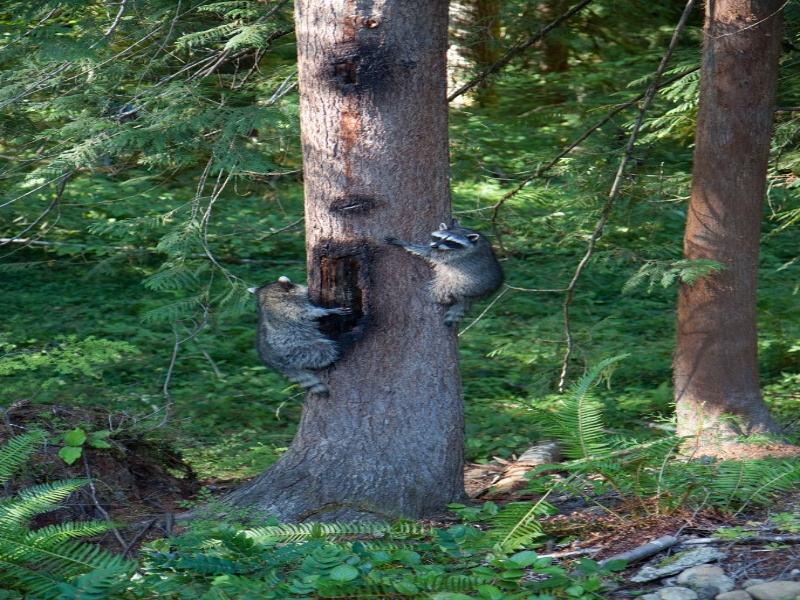raccoon: (245, 272, 353, 401), (386, 219, 507, 330)
